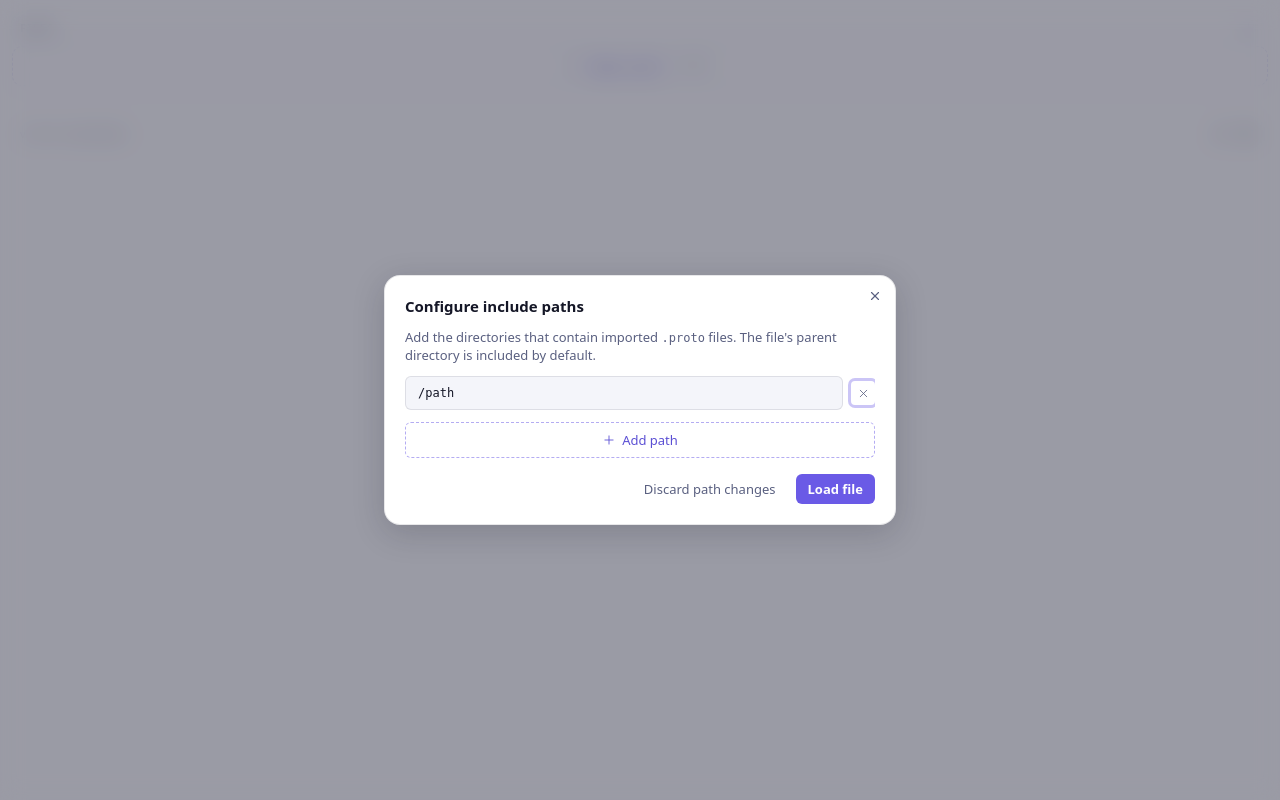
Test case: FilesSidebar › renders parse errors with role alert
What coordinates should you click on to do the following:
click the button "Load file"
I would click on:
 (835, 489)
Its box is [796,474,875,504].
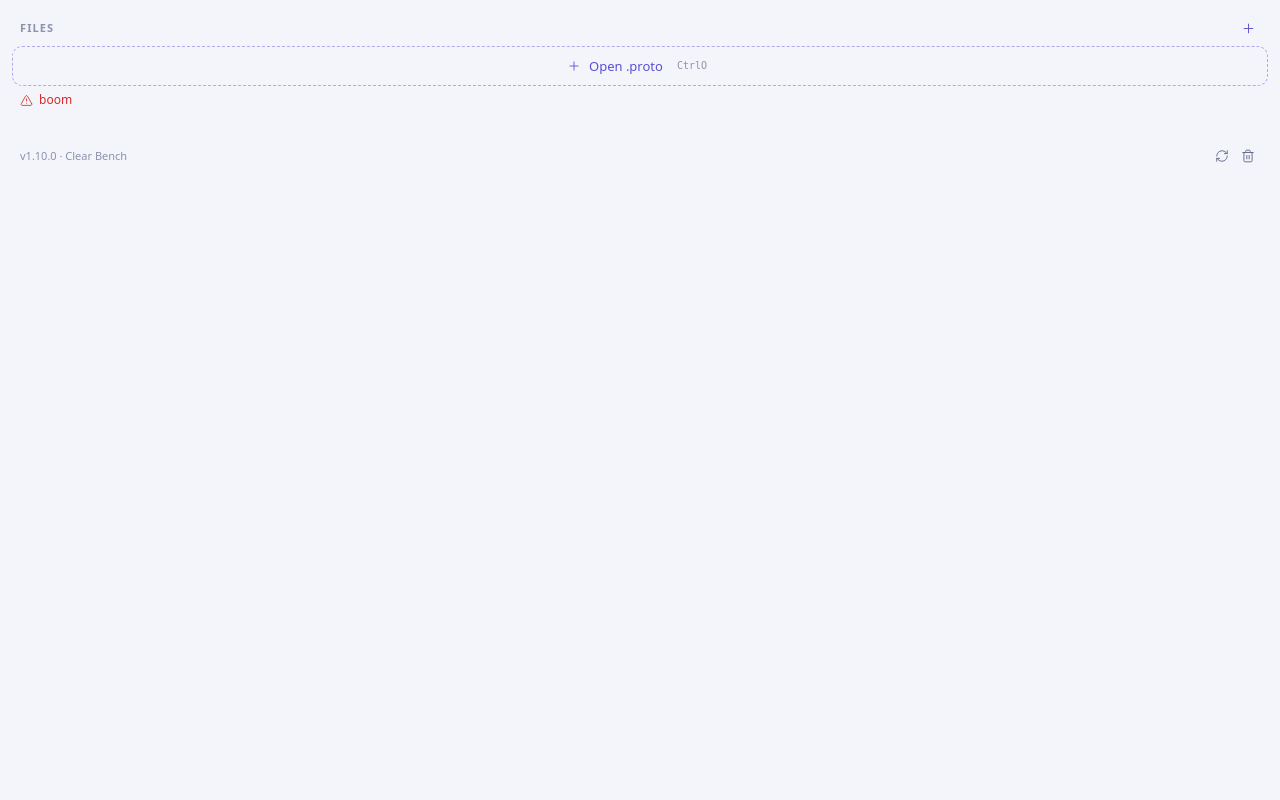
Now the message reads "boom", box [39,91,72,108]
